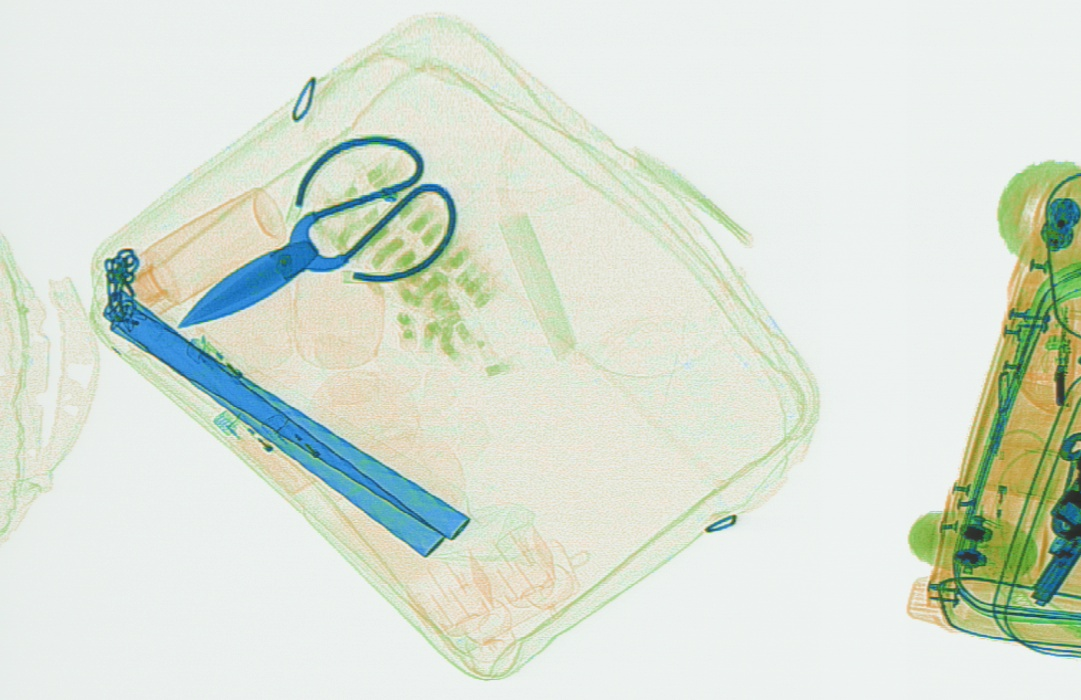firecrackers: (300, 151, 508, 381)
lighter: (256, 412, 370, 500), (211, 409, 315, 493), (183, 334, 282, 405)
scissors: (174, 132, 457, 332)
